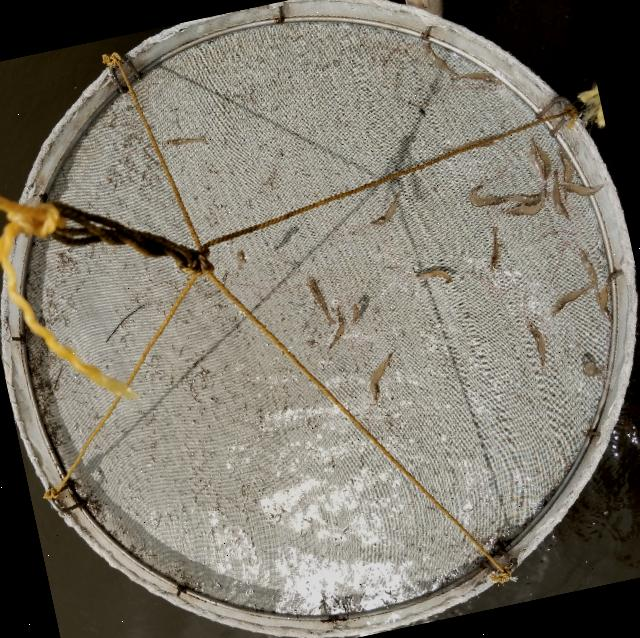shrimp: (552, 282, 594, 316), (306, 278, 334, 326), (523, 318, 546, 374), (369, 350, 393, 403), (581, 250, 601, 305), (368, 191, 400, 225), (423, 44, 458, 75), (506, 189, 547, 215), (530, 137, 551, 179), (553, 170, 570, 221), (469, 185, 509, 206), (557, 147, 573, 199), (530, 139, 546, 183), (329, 307, 345, 348), (451, 72, 502, 84), (600, 276, 613, 323), (559, 181, 602, 195), (410, 270, 452, 283), (501, 193, 548, 202), (164, 135, 205, 144), (490, 226, 498, 272)
